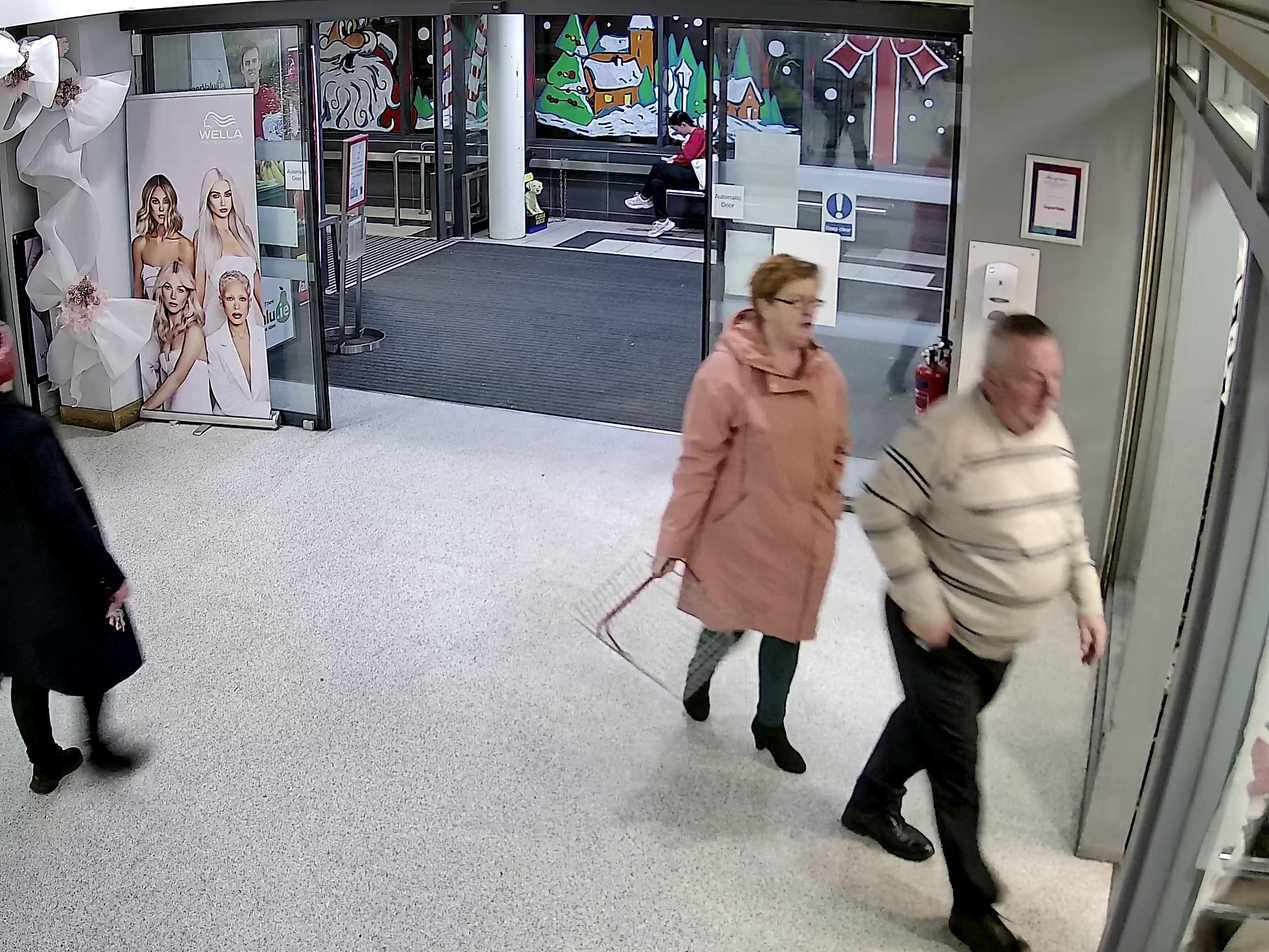empty-basket: (573, 546, 738, 698)
person: (655, 252, 850, 773)
person-with-empty-basket-trolly: (573, 251, 851, 771)
